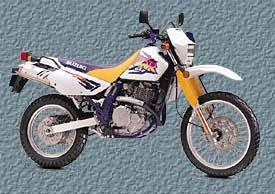motorcycle: (5, 5, 272, 183)
